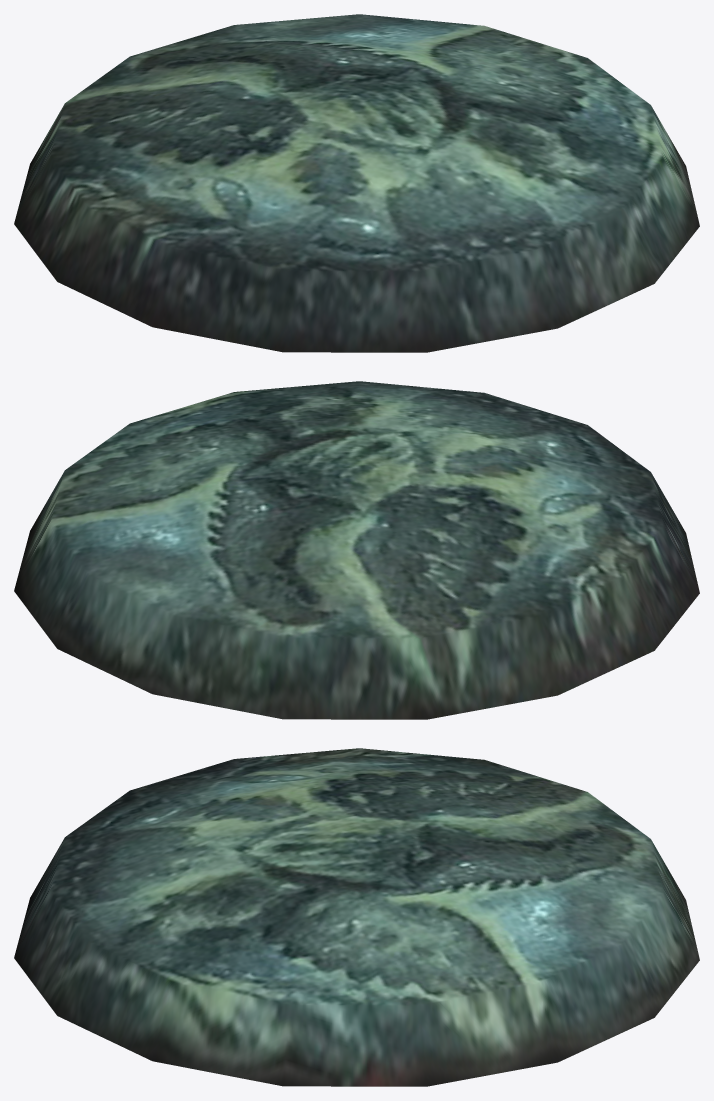
The model's file is VeteranCoatButton.FBX.
3 views of the same model, one above another, from view 1: azimuth 30°, elevation 25°; view 2: azimuth 150°, elevation 25°; view 3: azimuth 270°, elevation 25° (orthographic).
Parts seen in each view (by area): view 1: VeteranButton; view 2: VeteranButton; view 3: VeteranButton.
Boxes of the visible parts, left/top/right/bottom form: VeteranButton: left=14, top=14, right=699, bottom=352; VeteranButton: left=14, top=381, right=699, bottom=719; VeteranButton: left=14, top=748, right=699, bottom=1086.
Size of the model in its own units: 99.26 by 17.27 by 99.73.
1 material, 1 textured.
